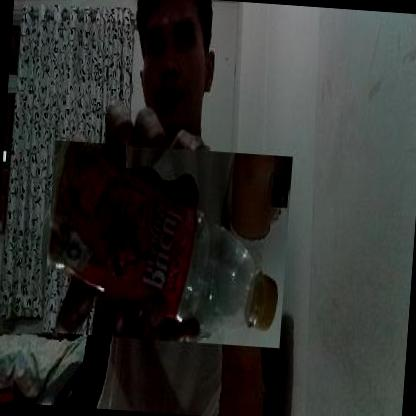plastic_bottles: (42, 140, 293, 348)
